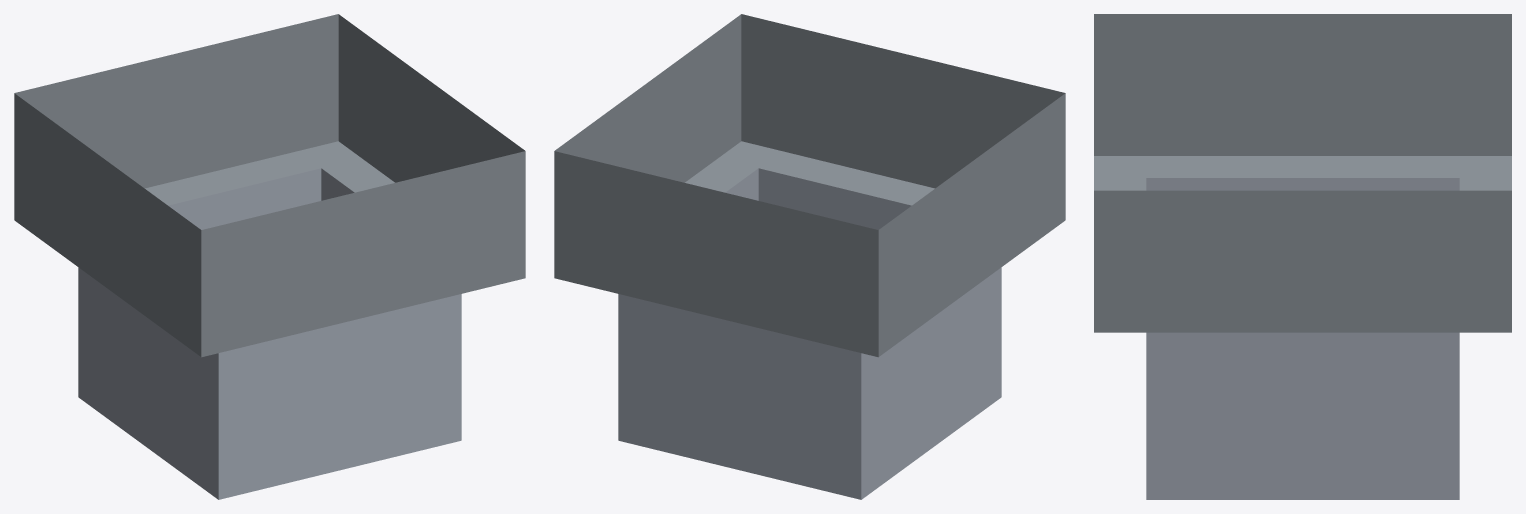
File: cell_30.obj
The picture shows the model from 3 angles, left to right: view 1: azimuth 30°, elevation 25°; view 2: azimuth 150°, elevation 25°; view 3: azimuth 270°, elevation 25°; orthographic projection. The views are drawn at different scales.
Size of the model in its own units: 0.5 by 0.4375 by 0.5.
